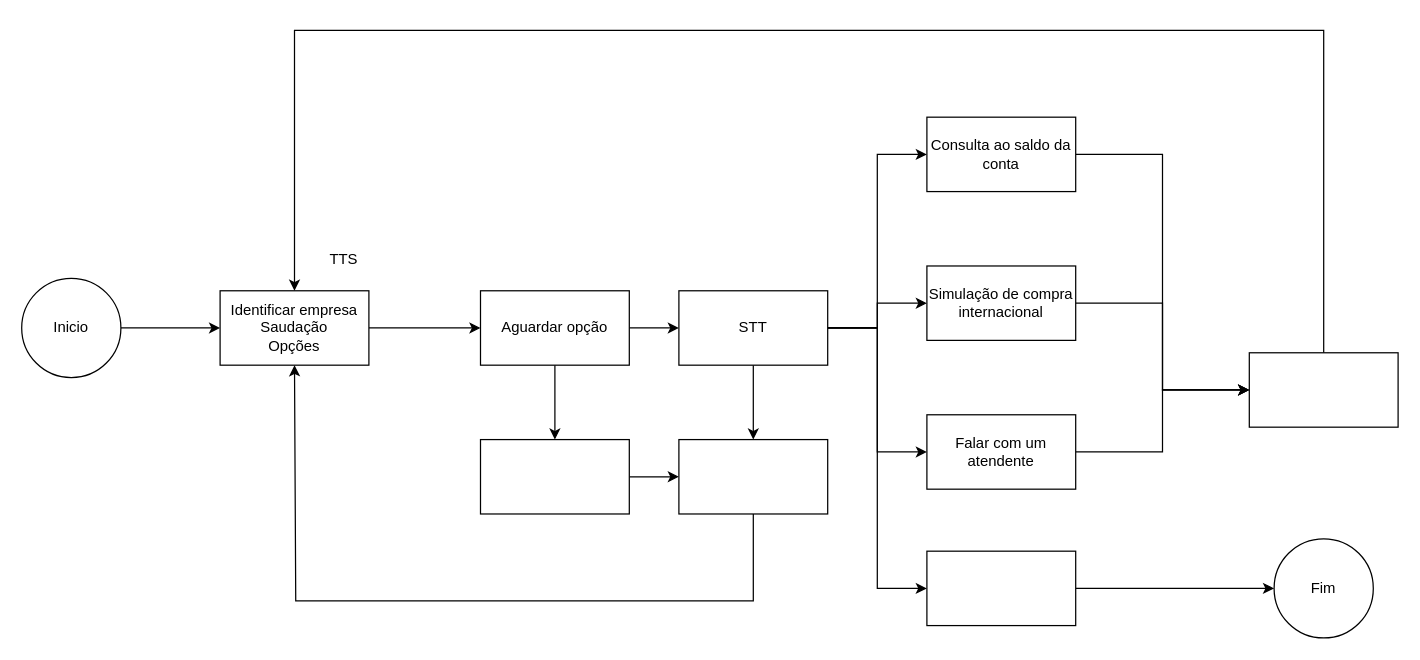
Some shapes in this 1420 by 660 pixel diagram are drawn without their labels. Each missing label, with the centre of its shape:
Nenhuma opção identificada: point 753,476
Passar 10s sem identificar, repete opções: point 554,476
Sair do atendimento: point 1001,588
Tocar audio e voltar para as opções: point 1323,389
